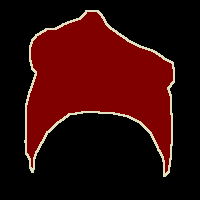hat: (25, 10, 174, 176)
